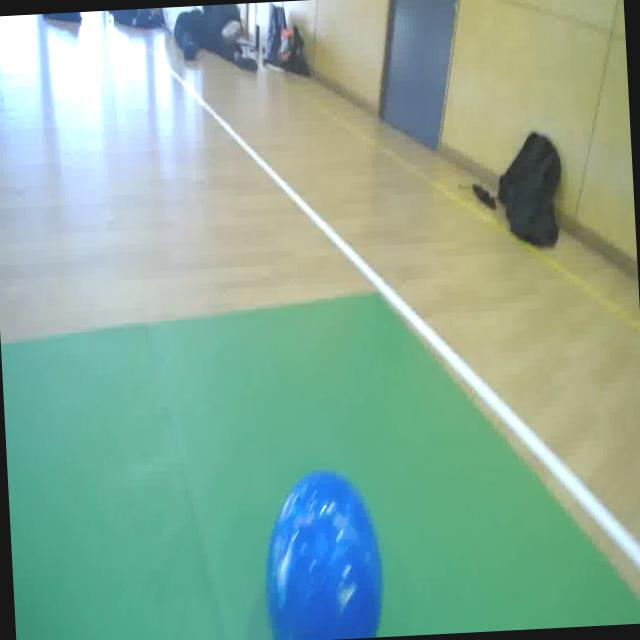blue_ball: (259, 464, 390, 640)
